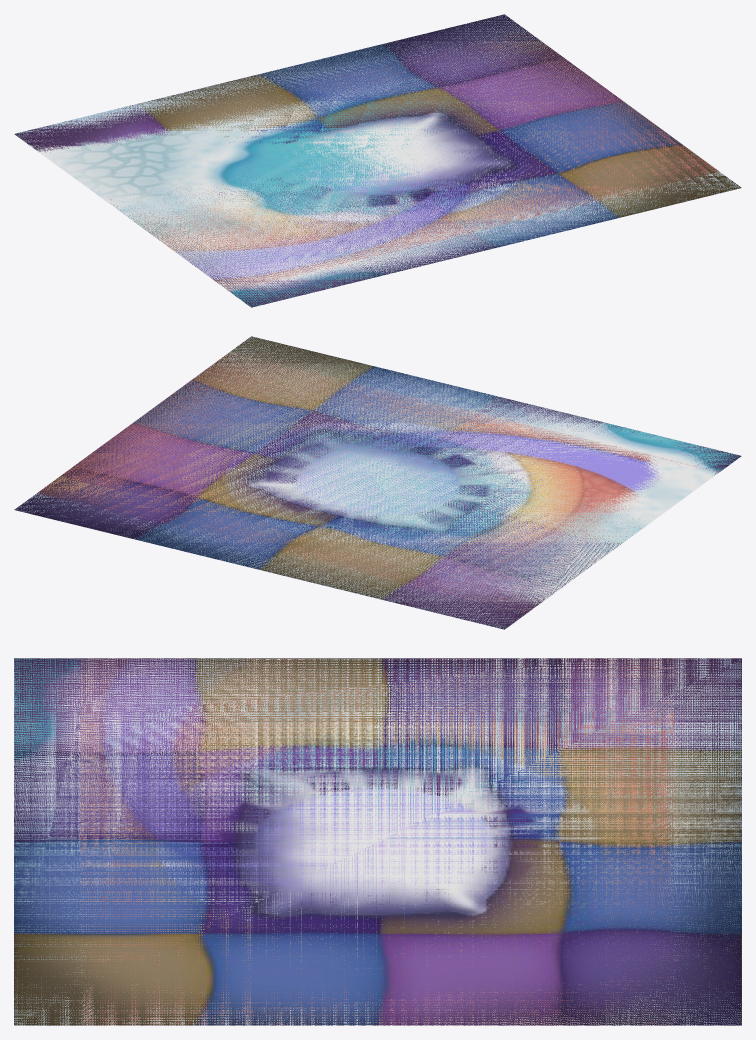
File: cogthief.glb
3 renders of one model, top to bottom at view 1: azimuth 30°, elevation 25°; view 2: azimuth 150°, elevation 25°; view 3: azimuth 270°, elevation 25°, orthographic. The views are drawn at different scales.
Parts seen in each view (by area): view 1: floor_DL, floor_BR, floor_MM; view 2: floor_DL, floor_BR, floor_MM; view 3: floor_DL, floor_BR, floor_MM.
Part boxes in pixels (bbox=[...]): floor_DL: bbox=[14, 14, 741, 307]; floor_BR: bbox=[16, 15, 739, 307]; floor_MM: bbox=[37, 31, 718, 291]; floor_DL: bbox=[14, 336, 741, 629]; floor_BR: bbox=[15, 336, 739, 629]; floor_MM: bbox=[37, 352, 718, 612]; floor_DL: bbox=[14, 658, 741, 1025]; floor_BR: bbox=[14, 658, 741, 1025]; floor_MM: bbox=[80, 658, 673, 1025].
Bounding box in the file's own units: 60.74 × 1.57e-10 × 50.89.
Materials: 6 (6 with a texture image).
